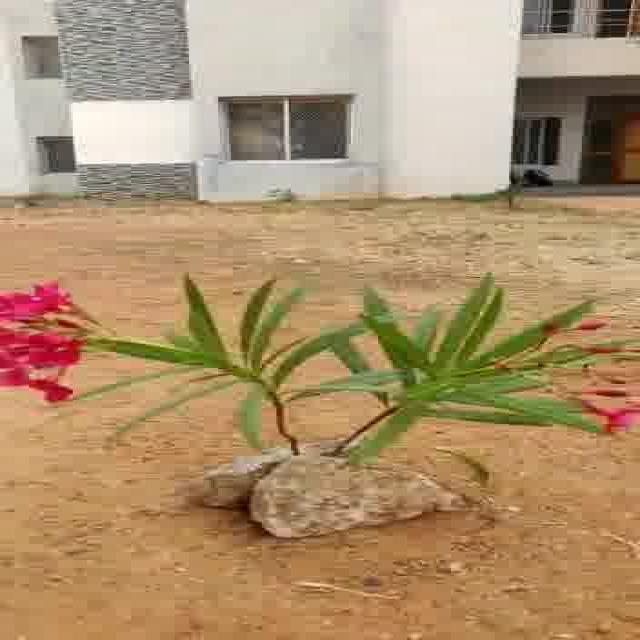Oleander: (1, 264, 640, 454)
